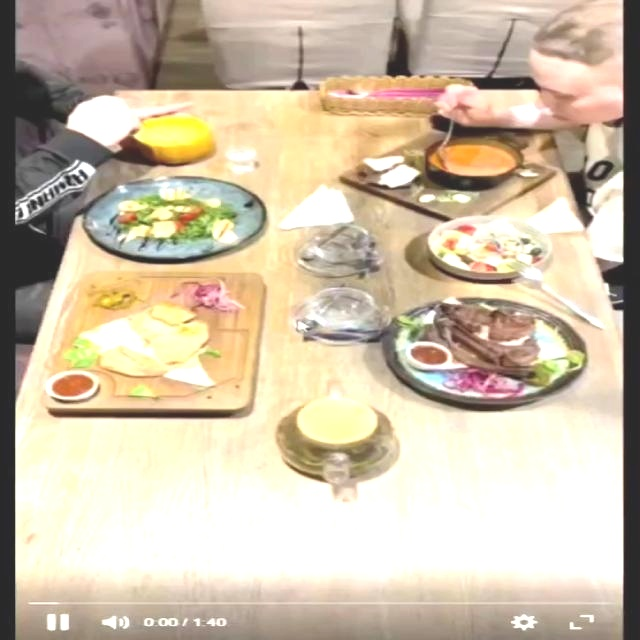meat: (51, 268, 256, 421), (379, 296, 589, 406)
salad: (79, 176, 265, 261), (427, 213, 555, 280)
soup: (335, 130, 556, 222), (128, 115, 214, 164)
tea: (296, 396, 376, 445)
